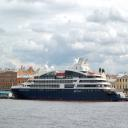cruises: (11, 58, 128, 104)
